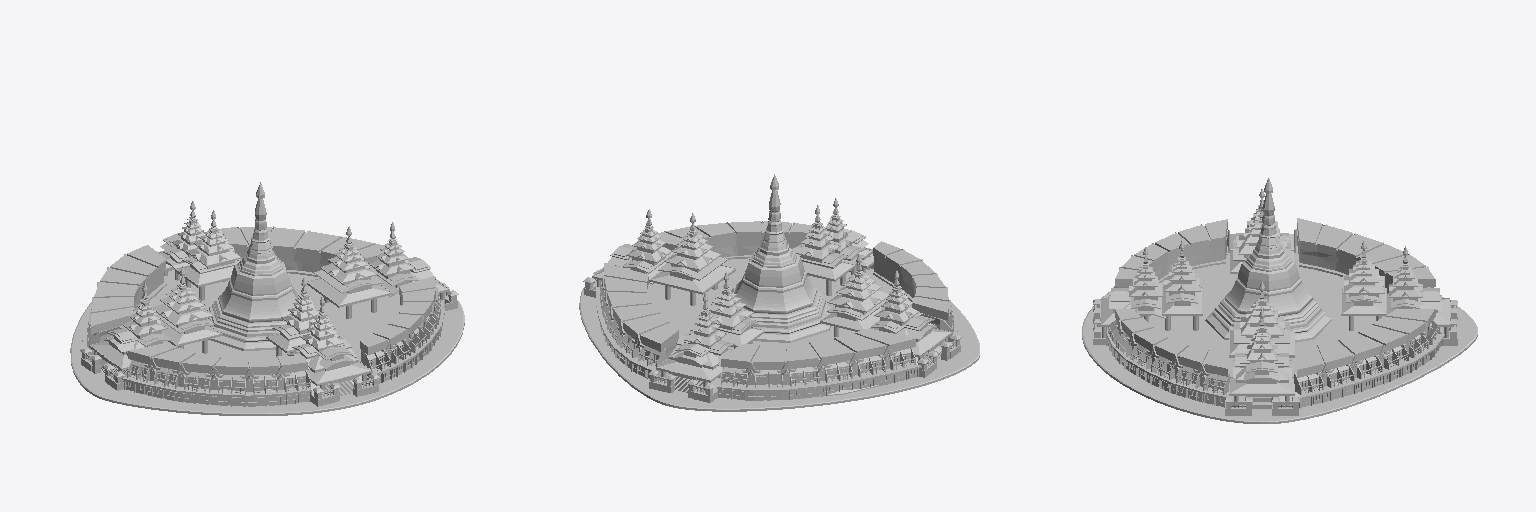
File: sule.obj
3 renders of one model, left to right at view 1: azimuth 30°, elevation 25°; view 2: azimuth 150°, elevation 25°; view 3: azimuth 270°, elevation 25°, orthographic.
Bounding box in the file's own units: 660 × 267 × 611.